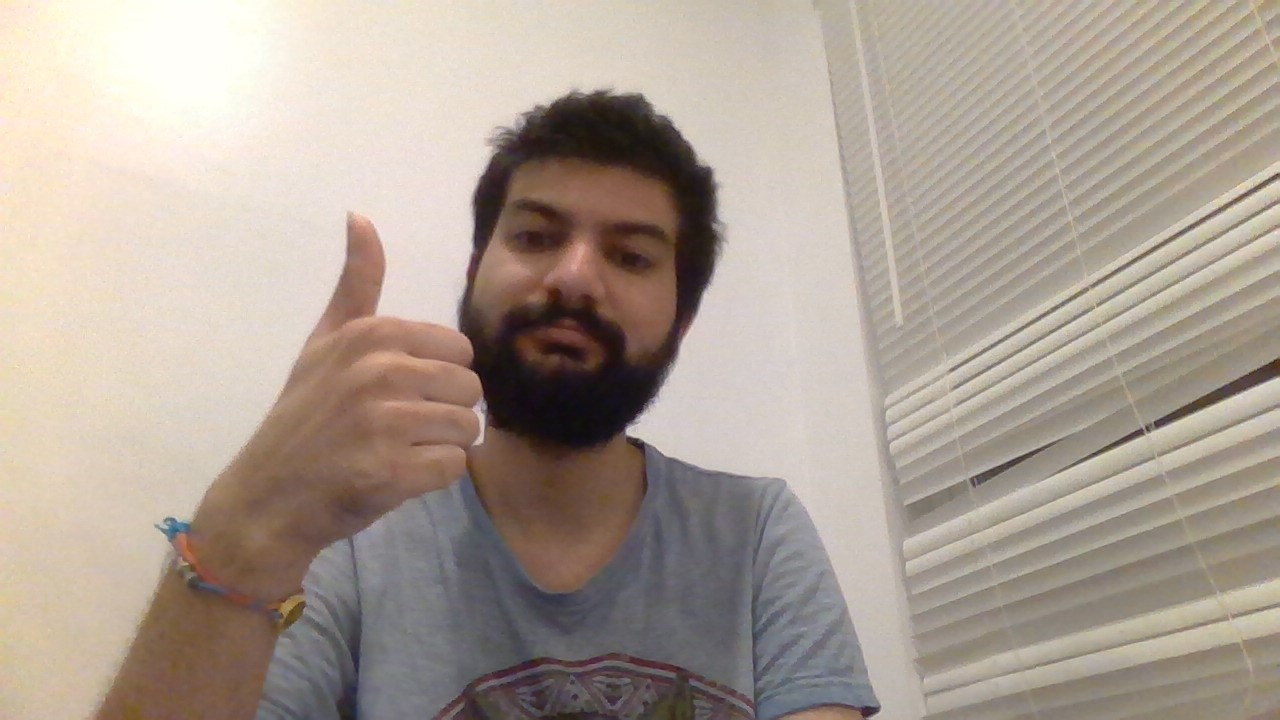up: (269, 203, 489, 518)
